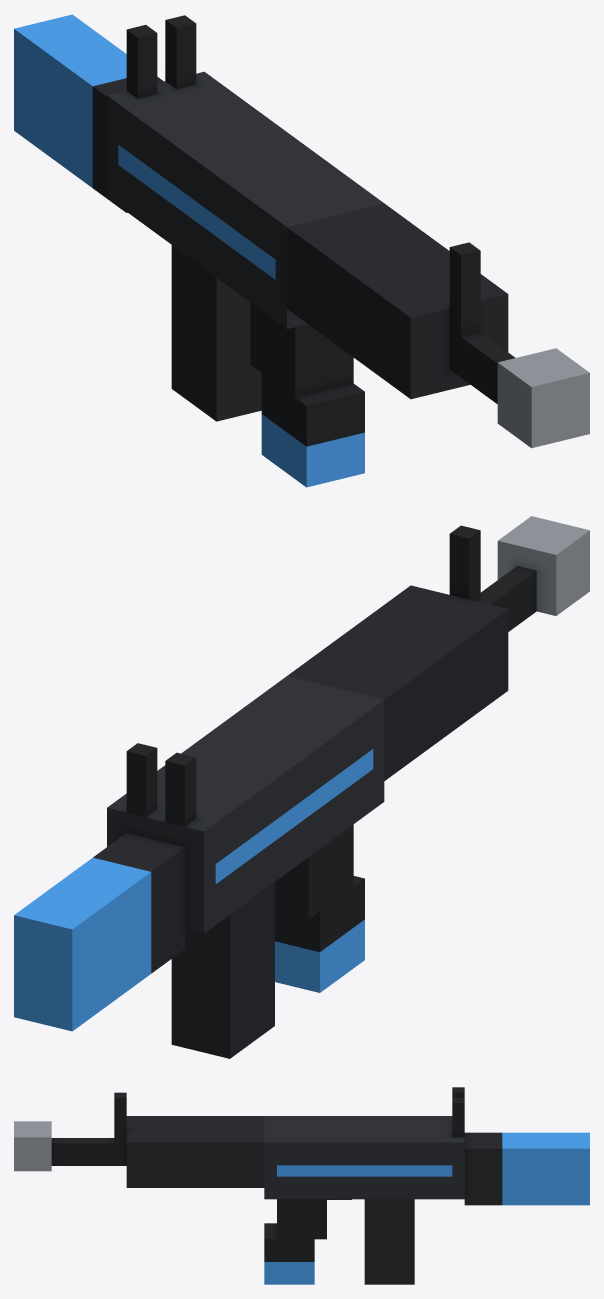
Rendered from trailblazer_rare.glb.
3 views of the same model, one above another, from view 1: azimuth 30°, elevation 25°; view 2: azimuth 150°, elevation 25°; view 3: azimuth 270°, elevation 25° (orthographic). The views are drawn at different scales.
Parts seen in each view (by area): view 1: trailblazer_rare_body; view 2: trailblazer_rare_body; view 3: trailblazer_rare_body.
Part boxes in pixels (box(x1,y1,x2,y2)): trailblazer_rare_body: box(14, 14, 589, 487); trailblazer_rare_body: box(14, 516, 589, 1058); trailblazer_rare_body: box(14, 1087, 589, 1284).
Bounding box in the file's own units: 0.1953 × 0.625 × 1.8.
Materials: 1 (1 with a texture image).
